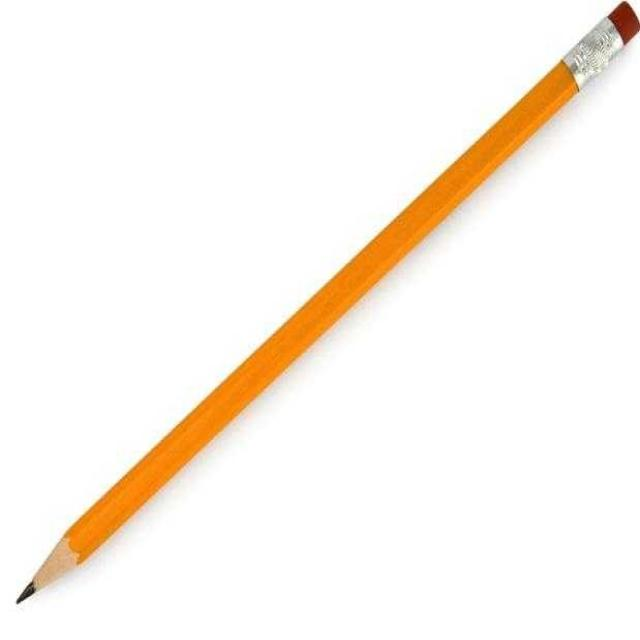pencil: (7, 0, 639, 618)
